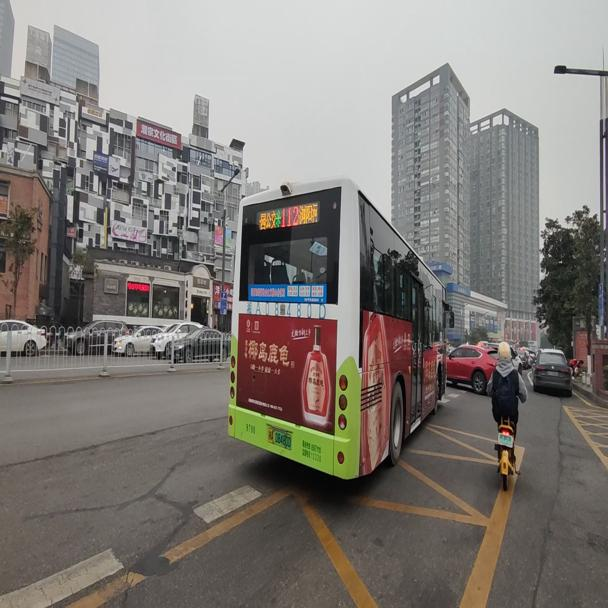bus: (226, 176, 455, 477)
screen: (279, 207, 299, 227)
